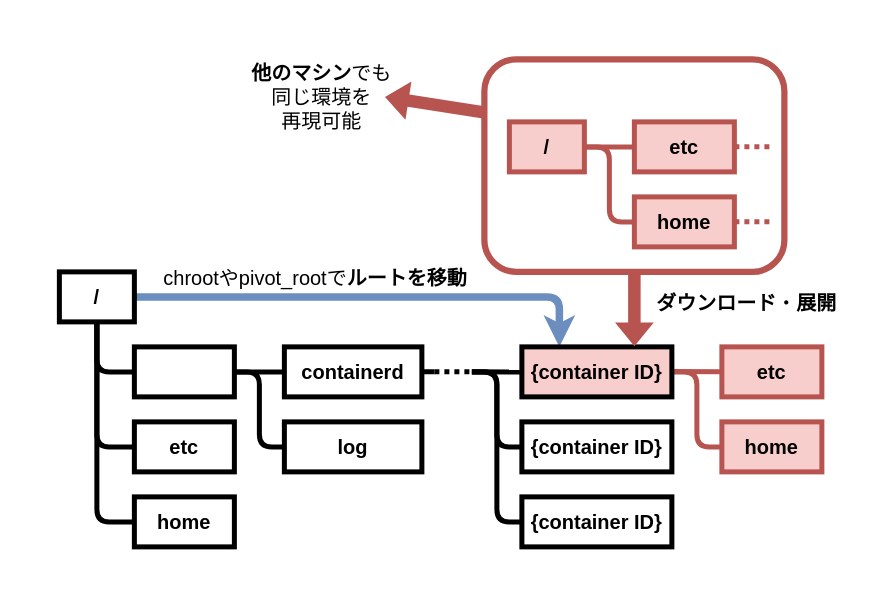
The diagram is 893 pixels wide and 605 high, and some of its shapes have lost their labels. Here are the shapes that lost their labels. From the top down, the box of each, then its label:
(481, 56, 787, 274): コンテナイメージ
(131, 344, 236, 399): run
